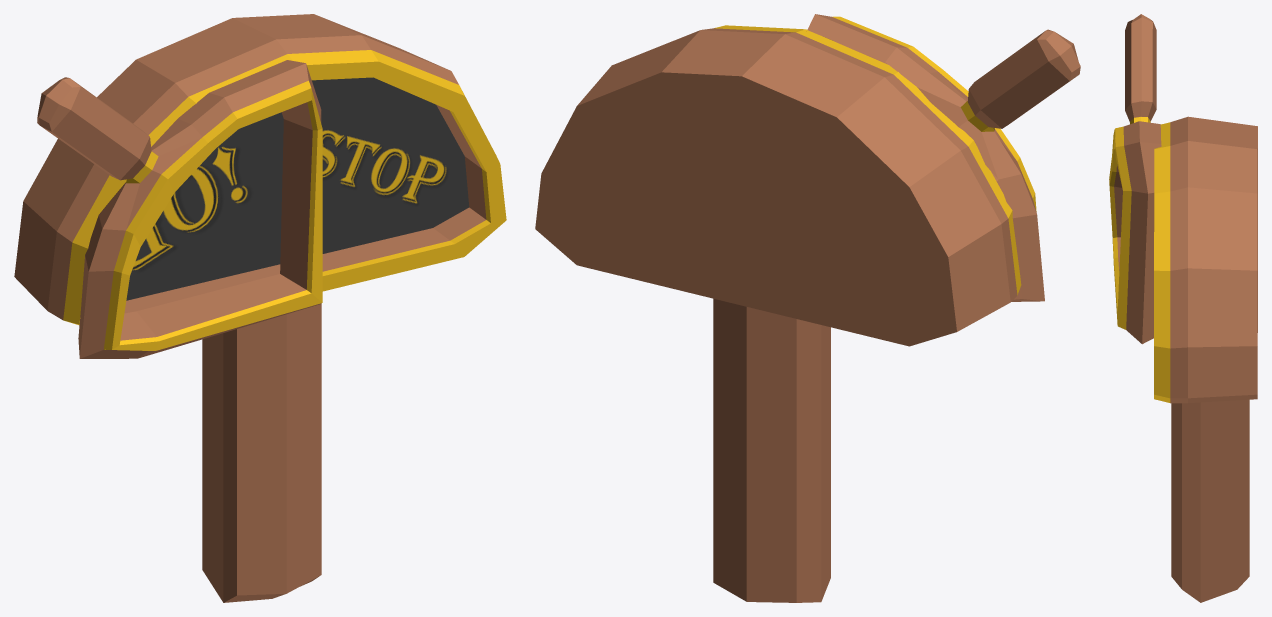
The model's file is palanca_ver2 3.fbx.
3 renders of one model, left to right at view 1: azimuth 30°, elevation 25°; view 2: azimuth 150°, elevation 25°; view 3: azimuth 270°, elevation 25°, orthographic. The views are drawn at different scales.
Visible parts, largest first — view 1: Base, palanca, Plano; view 2: Base, palanca; view 3: Base, palanca.
Part boxes in pixels (bbox=[...]): Base: bbox=[14, 14, 506, 602]; palanca: bbox=[37, 60, 322, 358]; Plano: bbox=[126, 77, 469, 300]; Base: bbox=[535, 25, 1021, 602]; palanca: bbox=[807, 14, 1080, 301]; Base: bbox=[1154, 116, 1257, 602]; palanca: bbox=[1109, 14, 1161, 344].
Bounding box in the file's own units: 51.87 × 61.22 × 17.17.
Materials: 3 (3 with a texture image).
